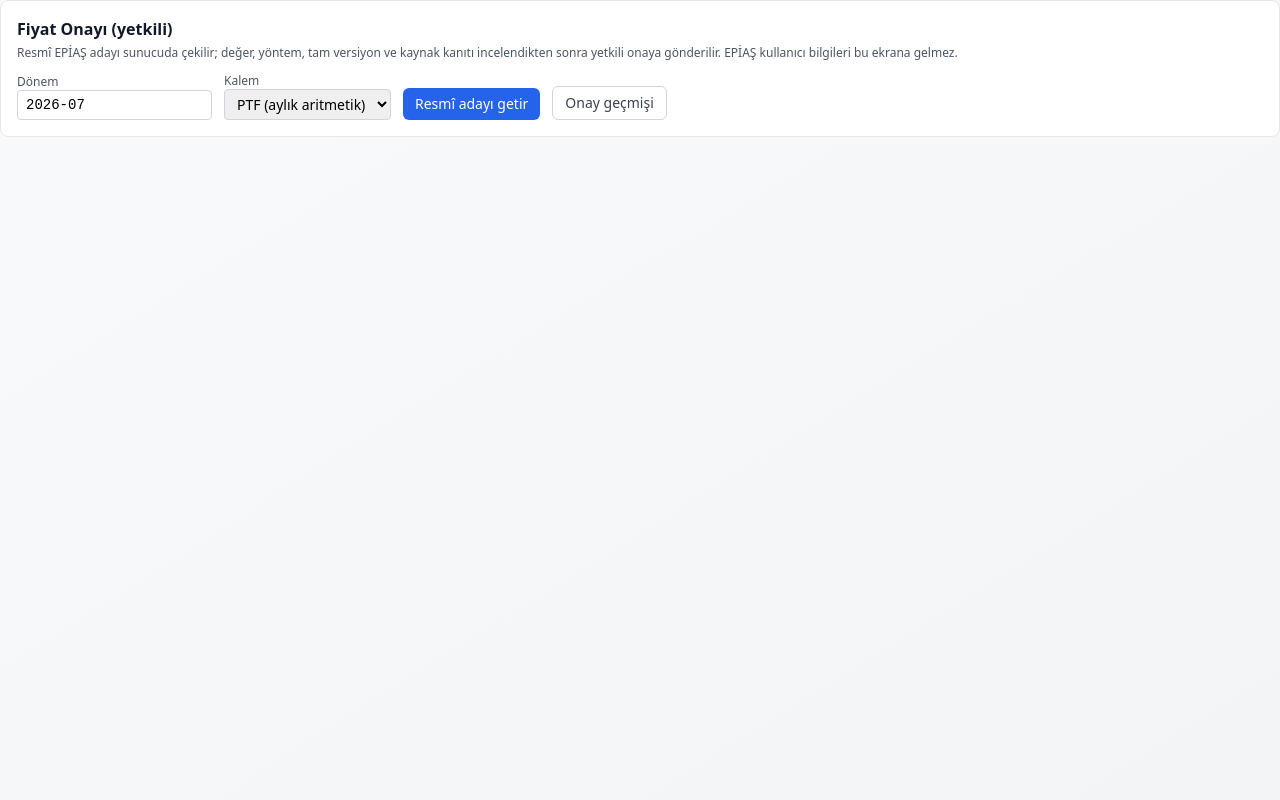
Test: FiyatOnayPaneli — kullanıcı akışı › PTF adayı: değer tam hassasiyet, yöntem ve saatlik kanıt gösterilir; onay değer göndermez
Click the button "Resmî adayı getir" at (472, 104), box left=403, top=88, right=540, bottom=120
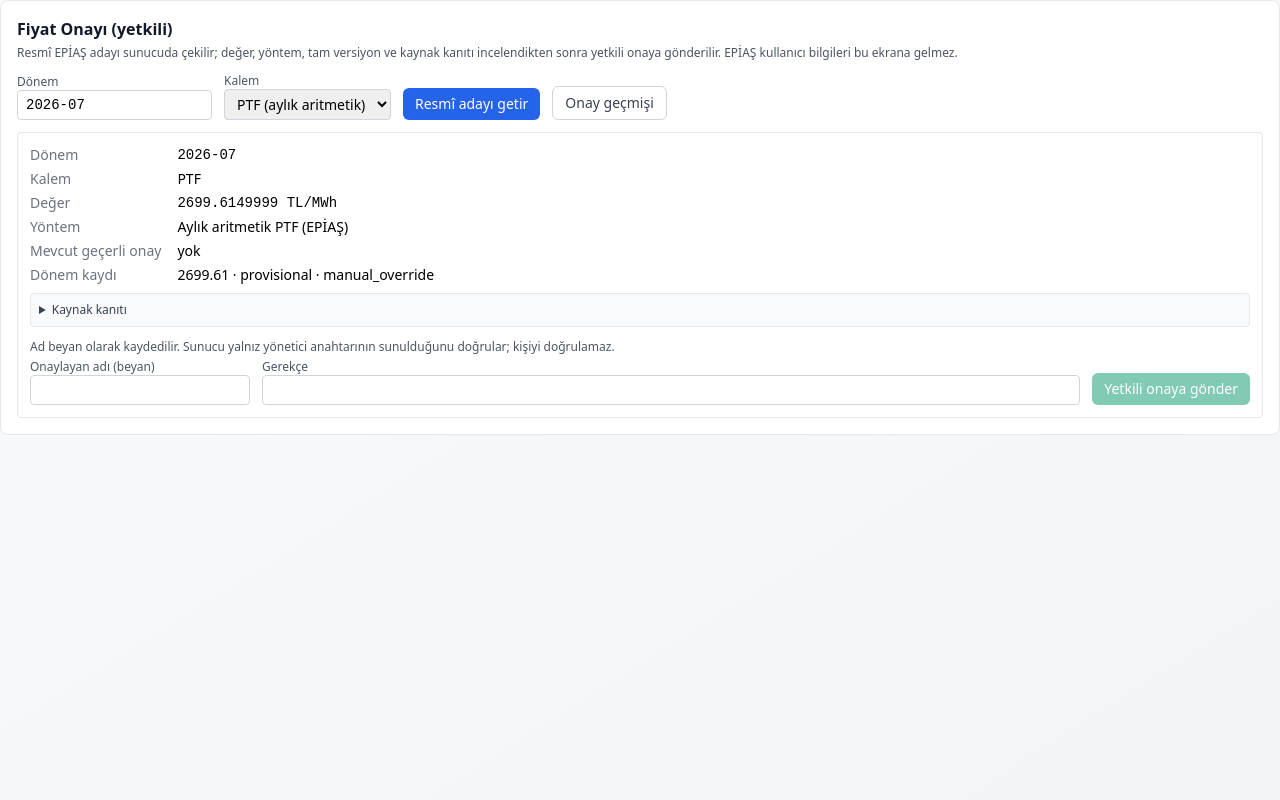
Result: the text with test id "aday-degeri" shows "2699.6149999" at left=177, top=195, right=278, bottom=211
Result: the element with test id "onay-adayi" shows "Aylık aritmetik PTF (EPİAŞ)" at left=177, top=217, right=348, bottom=236
Result: the text with test id "beyan-notu" shows "kişiyi doğrulamaz" at left=30, top=338, right=615, bottom=355
Type "Yetkili" into the field labelled "Onaylayan adı (beyan)" at (140, 390), box left=30, top=375, right=250, bottom=405
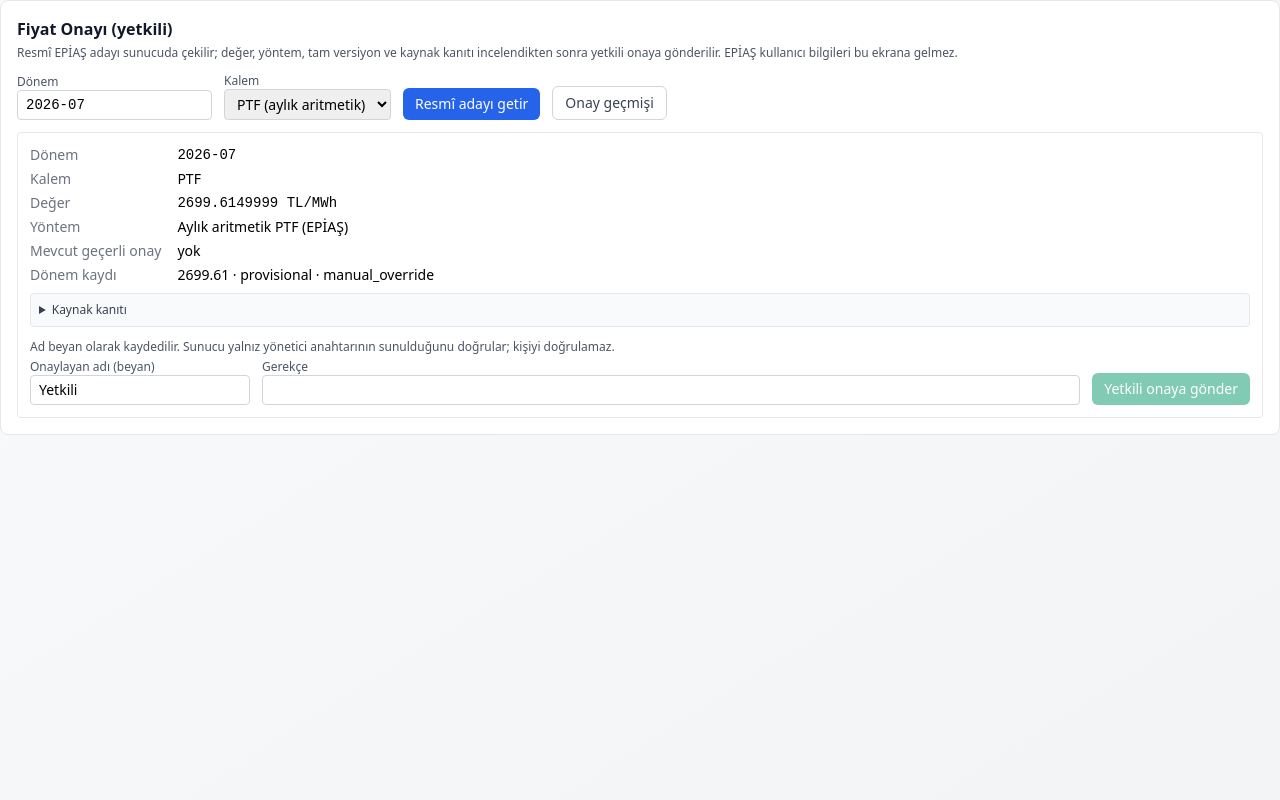
Result: the button "Yetkili onaya gönder" is disabled at left=1092, top=373, right=1250, bottom=405
Type "Temmuz resmî değer" into the field named "Onay gerekçesi" at (671, 390), box left=262, top=375, right=1080, bottom=405
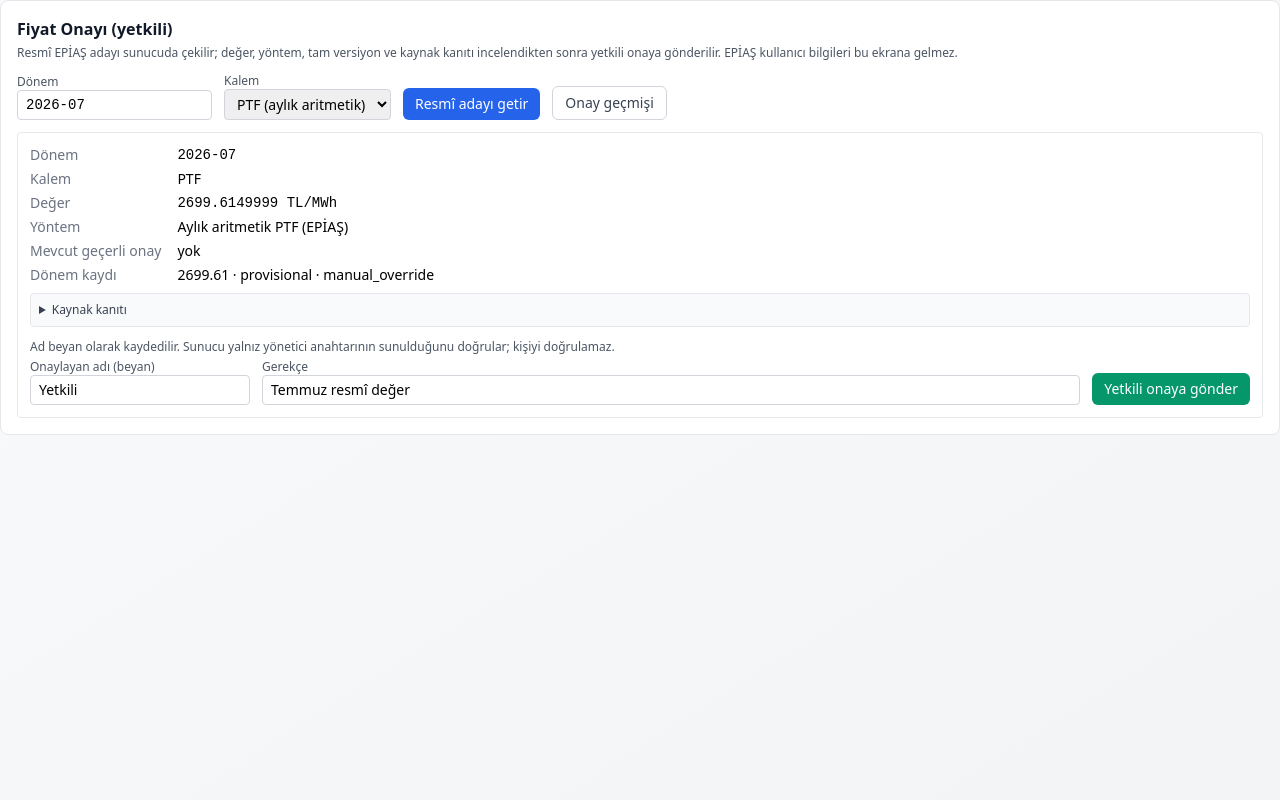
Result: the button "Yetkili onaya gönder" is enabled
Click the button "Yetkili onaya gönder" at (1171, 389), box left=1092, top=373, right=1250, bottom=405
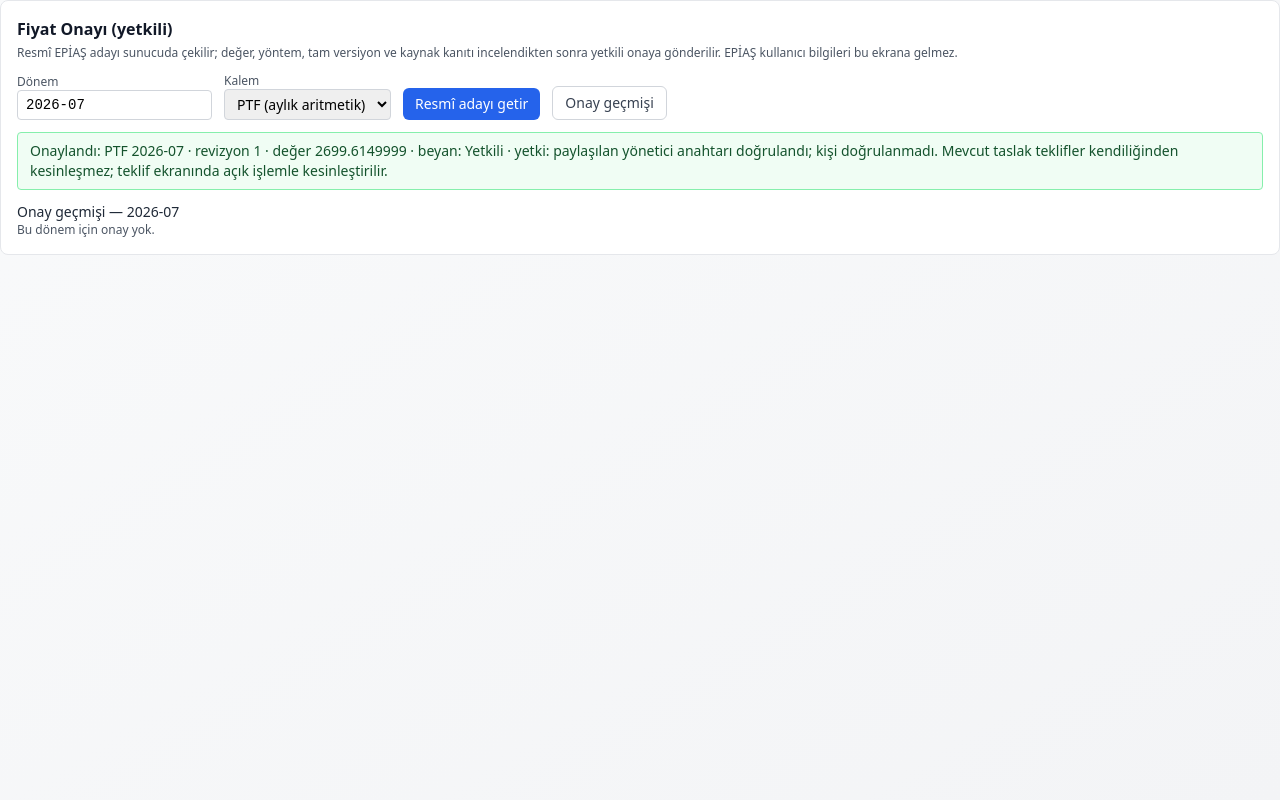
Result: the message with test id "onay-sonucu" shows "revizyon 1" at left=17, top=132, right=1263, bottom=190
Result: the message with test id "onay-sonucu" shows "beyan: Yetkili · yetki: paylaşılan yönetici anahtarı doğrulandı; kişi doğrulanmadı" at left=418, top=141, right=934, bottom=160
Result: the text with test id "beyan-notu" is gone
